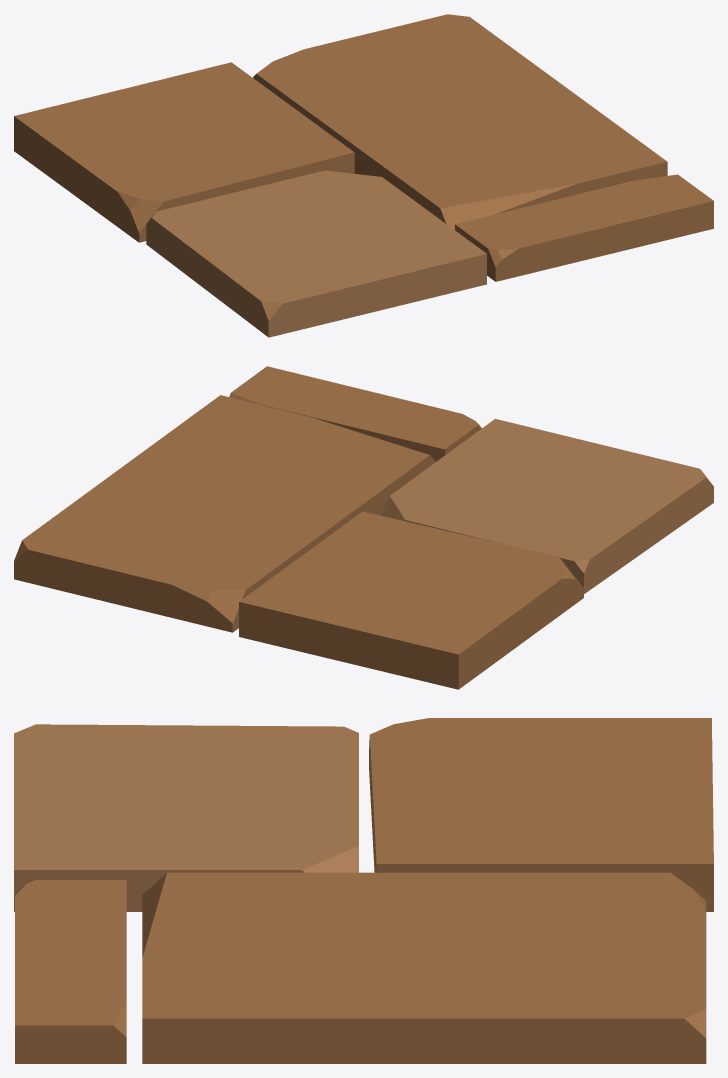
The model's file is Tile_01.fbx.
3 views of the same model, one above another, from view 1: azimuth 30°, elevation 25°; view 2: azimuth 150°, elevation 25°; view 3: azimuth 270°, elevation 25° (orthographic). The views are drawn at different scales.
Parts seen in each view (by area): view 1: Tile_01; view 2: Tile_01; view 3: Tile_01.
Part boxes in pixels (left/top/right/bottom): Tile_01: left=14, top=14, right=713, bottom=337; Tile_01: left=14, top=366, right=713, bottom=689; Tile_01: left=14, top=718, right=713, bottom=1063.
Size of the model in its own units: 95.98 by 7.22 by 95.38.
